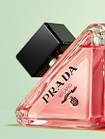prada_paradoxe: (13, 19, 105, 129)
